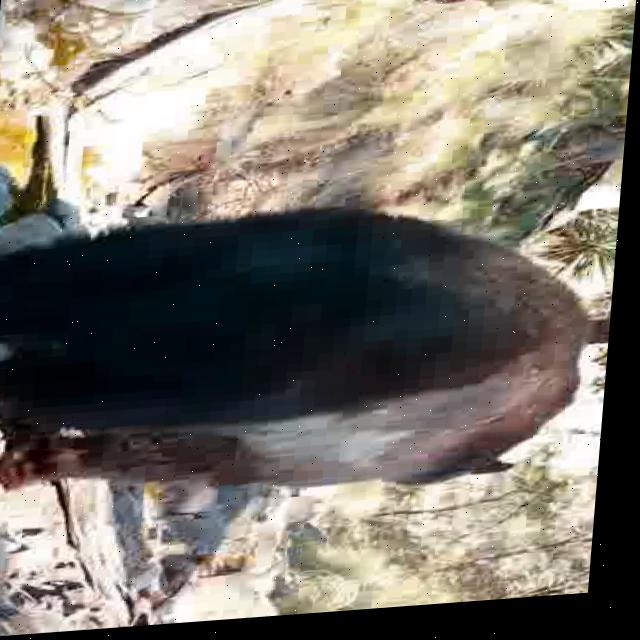bear face: (0, 199, 605, 521)
